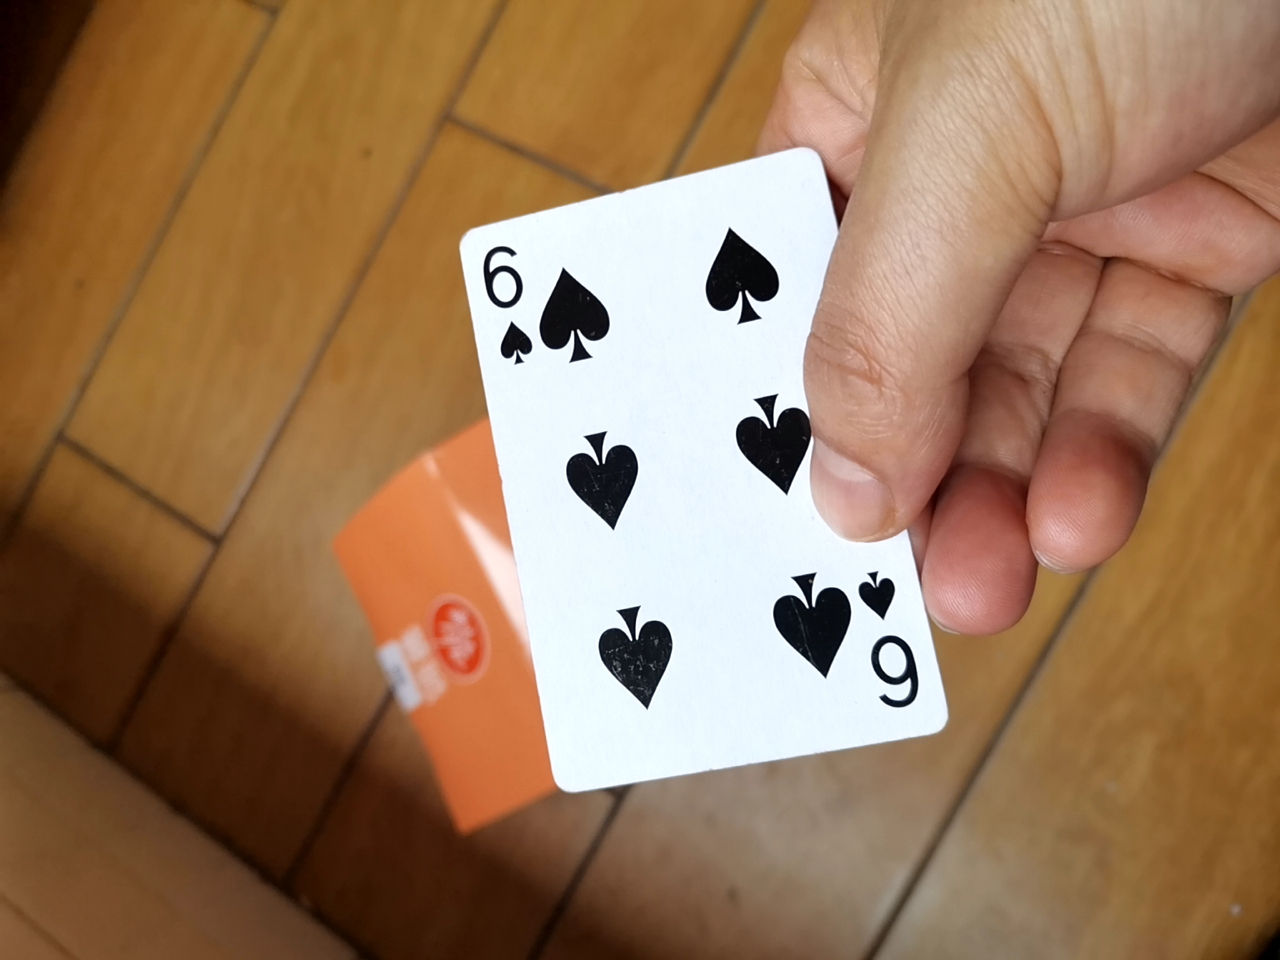ht 6: (444, 151, 910, 814)
